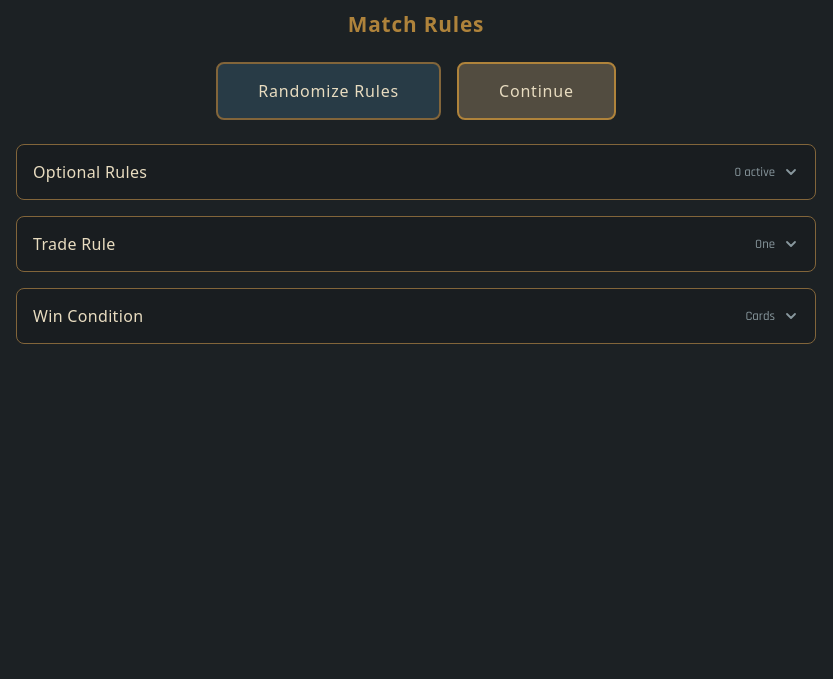
Test: RuleSelectScreen accordion behaviour › opens the Optional Rules section when its header is clicked
The width and height of the screenshot is (833, 679).
Click the button "Optional Rules 0 active" at (90, 172), box [17,145,815,199]
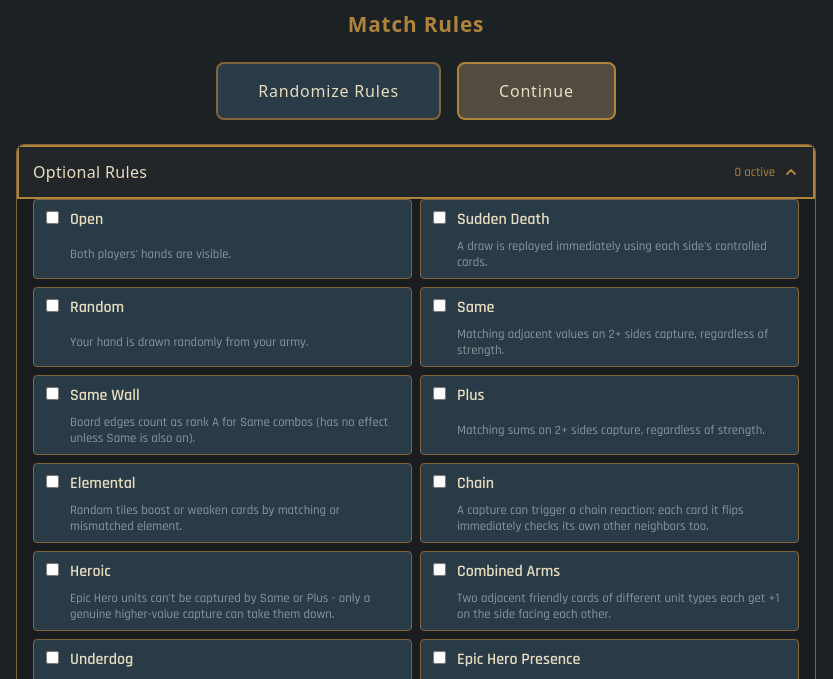
Expected: the button "Optional Rules 0 active" is expanded, [17,145,815,199]
Expected: the checkbox labelled "Open Both players' hands are visible." is shown, [46,211,59,224]
